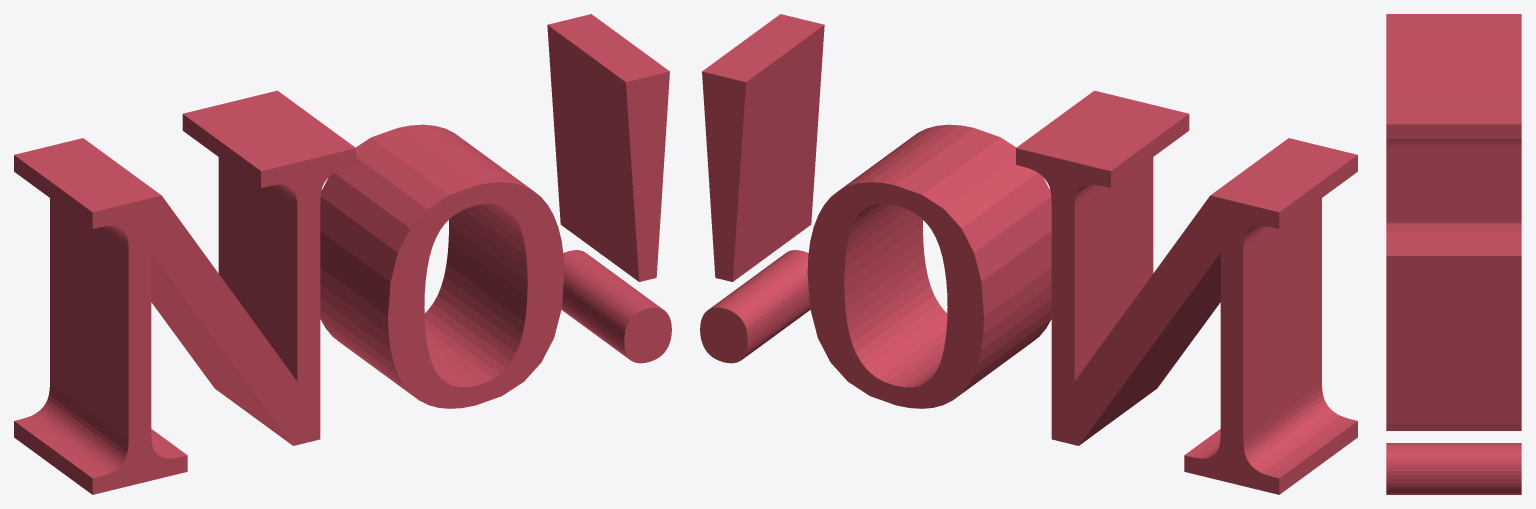
The picture shows the model from 3 angles, left to right: view 1: azimuth 30°, elevation 25°; view 2: azimuth 150°, elevation 25°; view 3: azimuth 270°, elevation 25°; orthographic projection. The views are drawn at different scales.
Parts seen in each view (by area): view 1: Mesh_Mesh_head_geo.001_lambert2SG.001; view 2: Mesh_Mesh_head_geo.001_lambert2SG.001; view 3: Mesh_Mesh_head_geo.001_lambert2SG.001.
Part boxes in pixels (bbox=[...]): Mesh_Mesh_head_geo.001_lambert2SG.001: bbox=[14, 14, 671, 494]; Mesh_Mesh_head_geo.001_lambert2SG.001: bbox=[700, 14, 1357, 494]; Mesh_Mesh_head_geo.001_lambert2SG.001: bbox=[1386, 14, 1521, 494].
Size of the model in its own units: 42.56 by 20.12 by 10.
